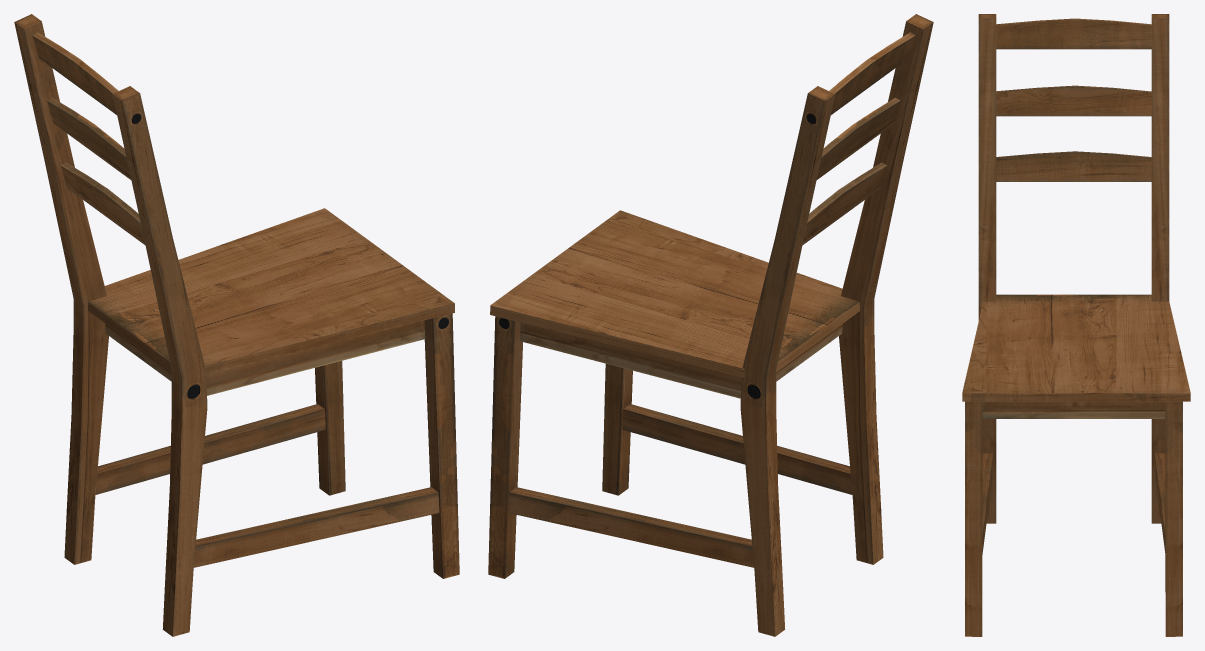
The model's file is ChairObj.obj.
3 renders of one model, left to right at view 1: azimuth 30°, elevation 25°; view 2: azimuth 150°, elevation 25°; view 3: azimuth 270°, elevation 25°, orthographic. The views are drawn at different scales.
Visible parts, largest first — view 1: Chair, leglow1:group leglow1:pasted__polySurface74 leglow1:polySurface7; view 2: Chair, leglow1:group leglow1:pasted__polySurface74 leglow1:polySurface7; view 3: Chair, leglow1:group leglow1:pasted__polySurface74 leglow1:polySurface7.
Boxes of the visible parts, x1=… form: Chair: x1=14, y1=14, x2=454, y2=636; leglow1:group leglow1:pasted__polySurface74 leglow1:polySurface7: x1=315, y1=313, x2=459, y2=578; Chair: x1=490, y1=14, x2=933, y2=636; leglow1:group leglow1:pasted__polySurface74 leglow1:polySurface7: x1=488, y1=316, x2=632, y2=578; Chair: x1=962, y1=14, x2=1190, y2=554; leglow1:group leglow1:pasted__polySurface74 leglow1:polySurface7: x1=965, y1=401, x2=1182, y2=636.
Size of the model in its own units: 1.5 by 2.4 by 1.03.
1 material, 1 textured.
